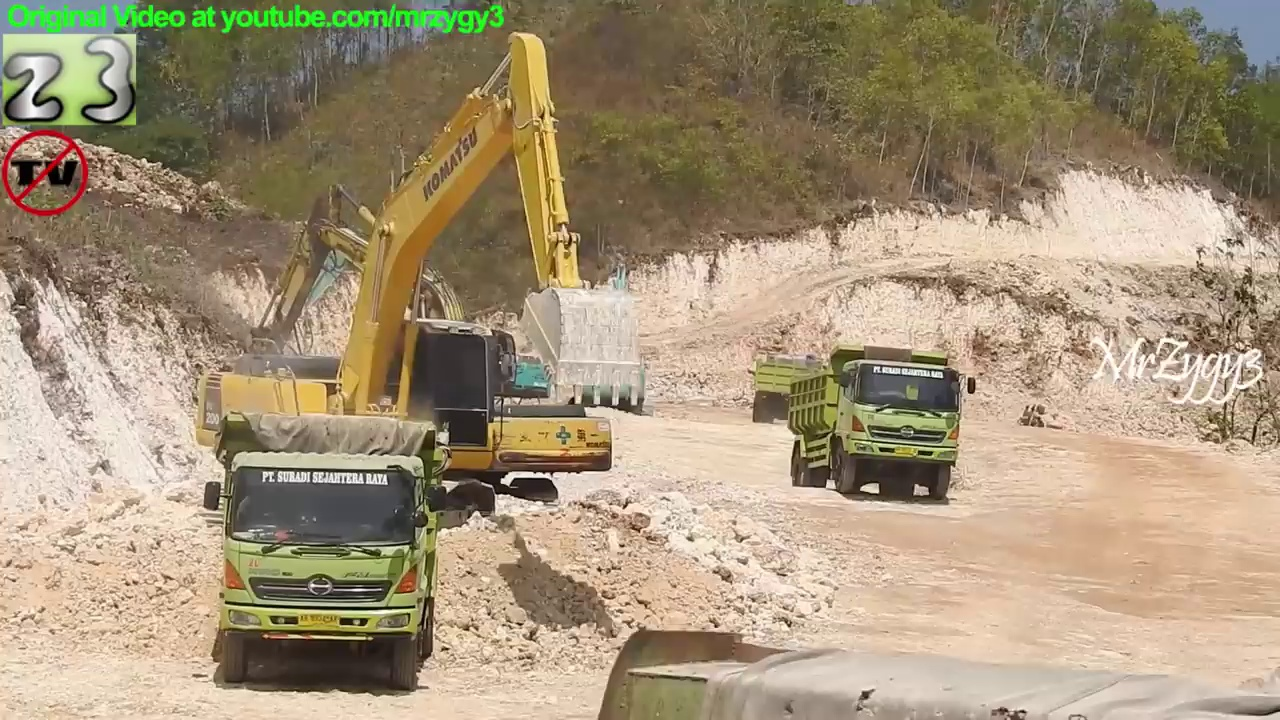excavator: (193, 27, 647, 544), (230, 183, 619, 514), (251, 223, 561, 461)
truck: (200, 412, 450, 696), (592, 621, 1280, 720), (786, 344, 981, 507), (743, 344, 851, 433)
